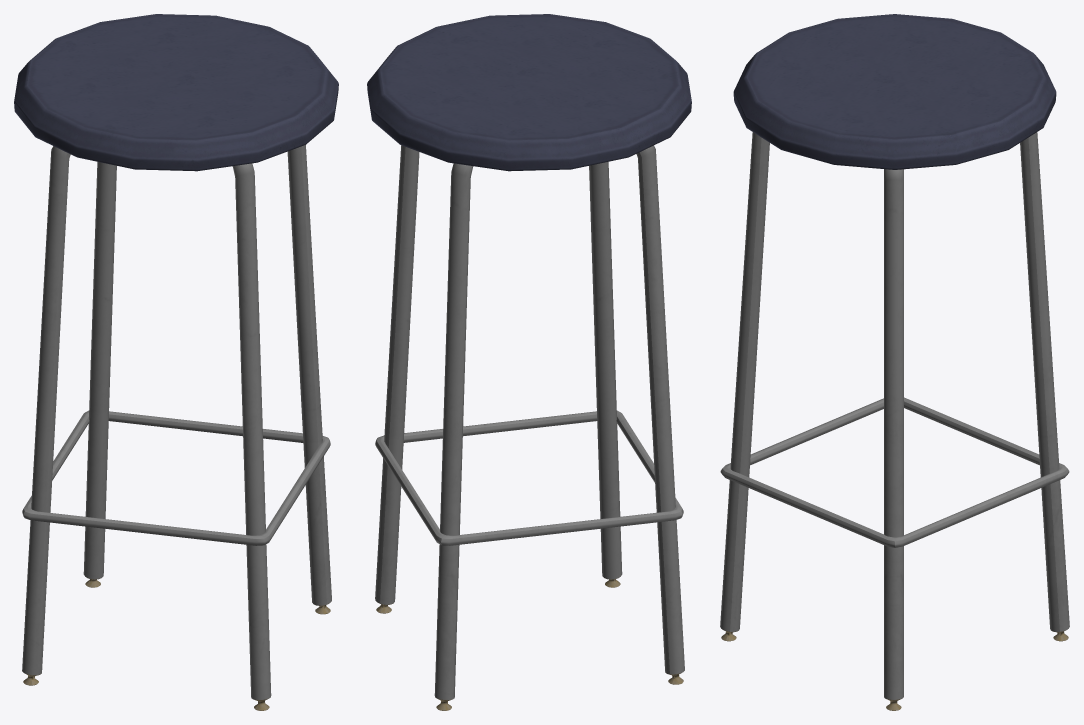
File: taburete5.glb
The picture shows the model from 3 angles, left to right: view 1: azimuth 30°, elevation 25°; view 2: azimuth 150°, elevation 25°; view 3: azimuth 270°, elevation 25°; orthographic projection.
Parts seen in each view (by area): view 1: Top_Low, Legs_Low, Bind_Low; view 2: Top_Low, Legs_Low, Bind_Low; view 3: Top_Low, Legs_Low, Bind_Low.
Part boxes in pixels (x1,y1,x2,y2): Top_Low: [14, 14, 338, 171]; Legs_Low: [22, 145, 331, 710]; Bind_Low: [22, 410, 330, 545]; Top_Low: [367, 14, 691, 171]; Legs_Low: [375, 145, 684, 710]; Bind_Low: [375, 410, 683, 545]; Top_Low: [733, 14, 1056, 169]; Legs_Low: [720, 132, 1069, 710]; Bind_Low: [720, 397, 1069, 547].
Size of the model in its own units: 38.66 by 68.4 by 38.66.
1 material, 1 textured.
